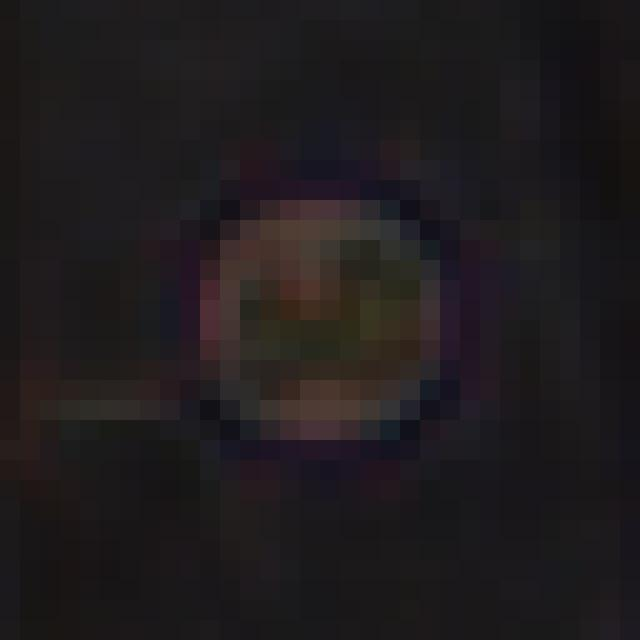SPEED-LIMIT-60: (168, 150, 469, 469)
